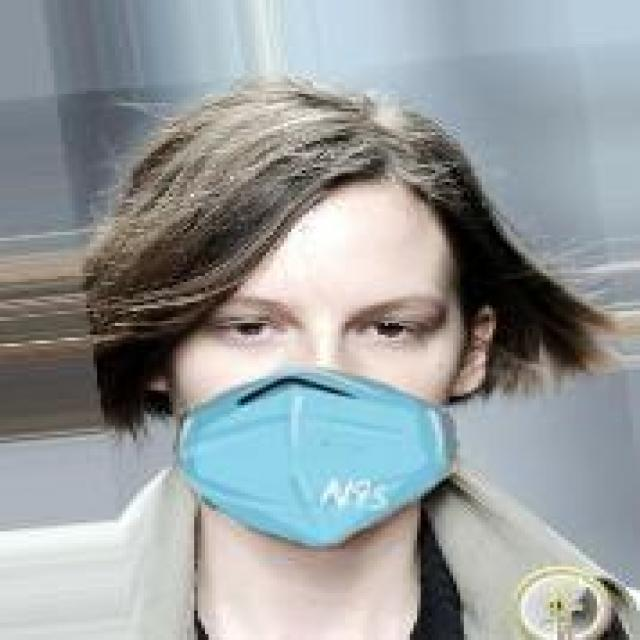mask: (82, 100, 564, 596)
